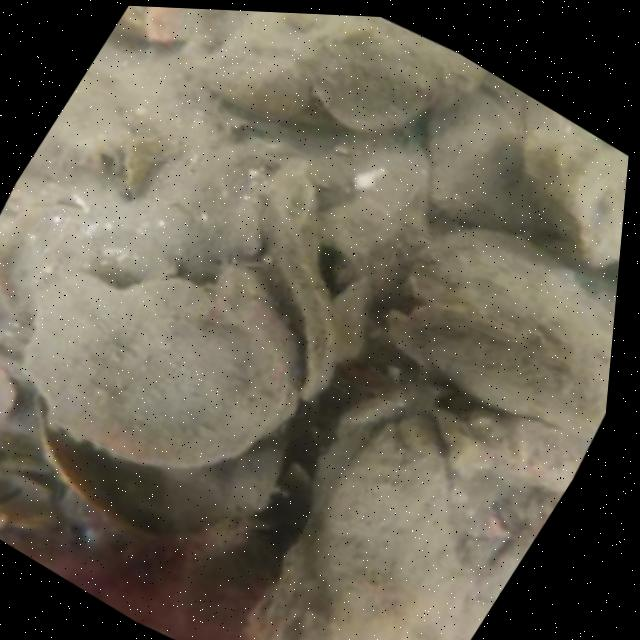Oyster-Closed: (389, 306, 596, 440)
Oyster-Indeterminate: (25, 263, 300, 465), (403, 228, 613, 409), (316, 413, 473, 640), (219, 11, 485, 110), (428, 91, 535, 237), (459, 410, 579, 494), (310, 50, 428, 132), (196, 47, 305, 119), (114, 6, 247, 41)
